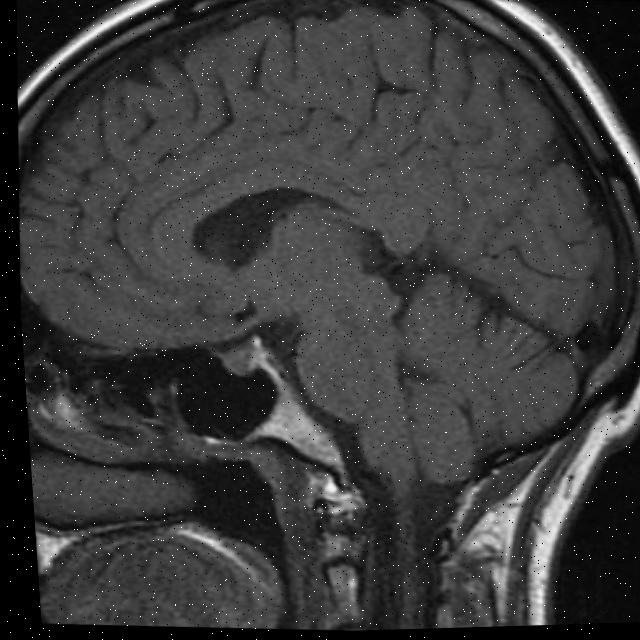Pituitary: (218, 332, 271, 382)
